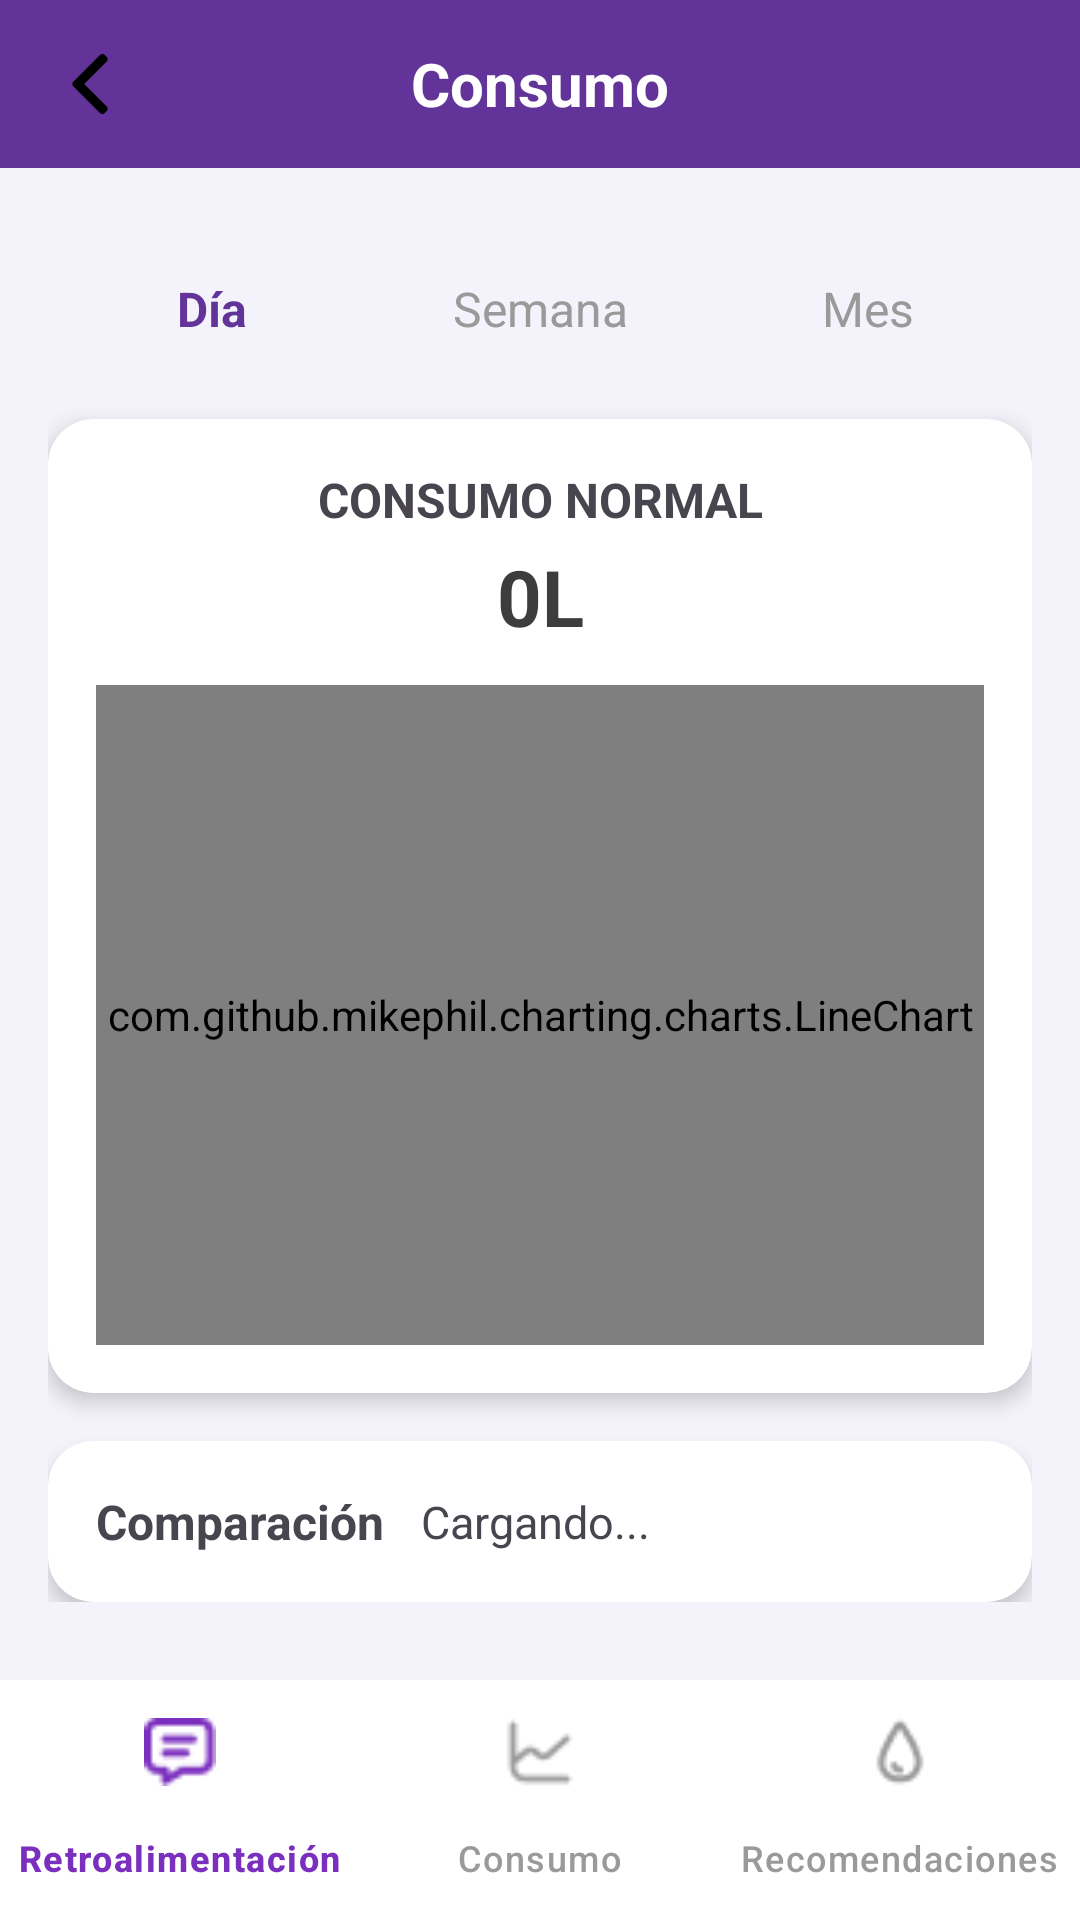

Where to tap for icons on this 1080×1920 app screen, as (x,y):
back: (90,84)
